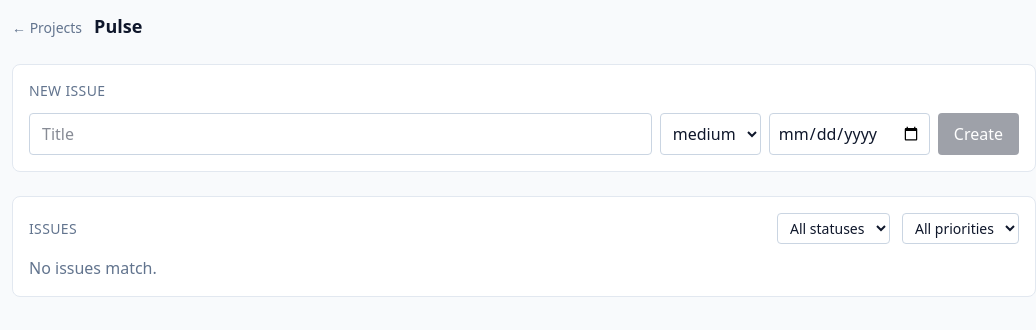
Test: creates an issue and shows it in the list
The image size is (1036, 330).
Expected: the text "No issues match." is shown, [29,257,157,279]
Type "Brand new" into the field named "Issue title" at (340, 134), box [29,113,652,155]
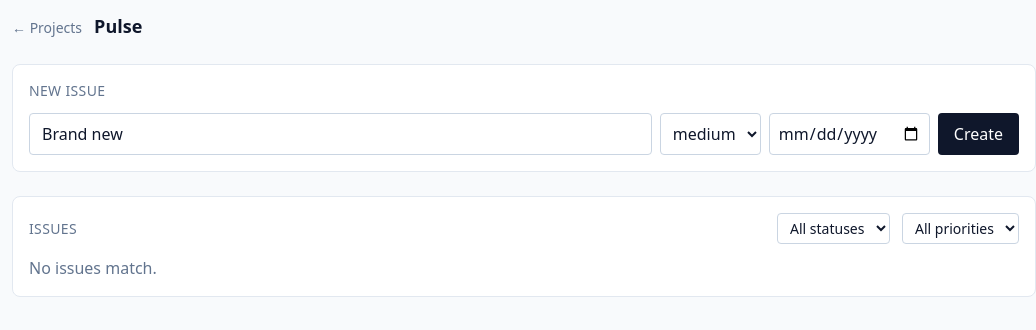
Select "urgent" in the dropdown named "Issue priority" at (710, 134), box [660,113,761,155]
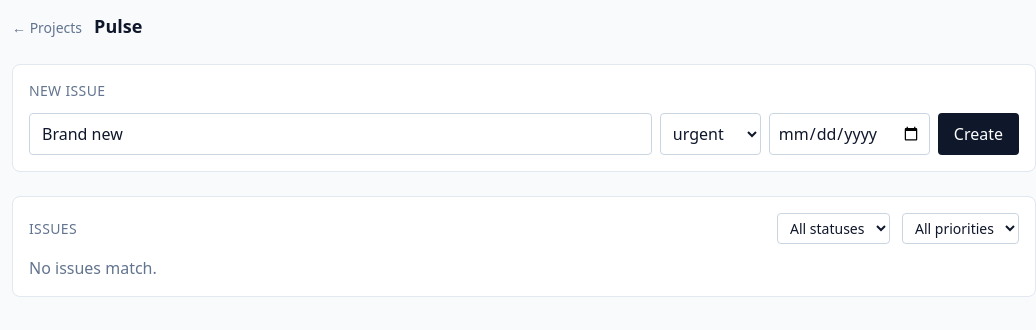
Click the button "Create" at (978, 134), box [938,113,1019,155]
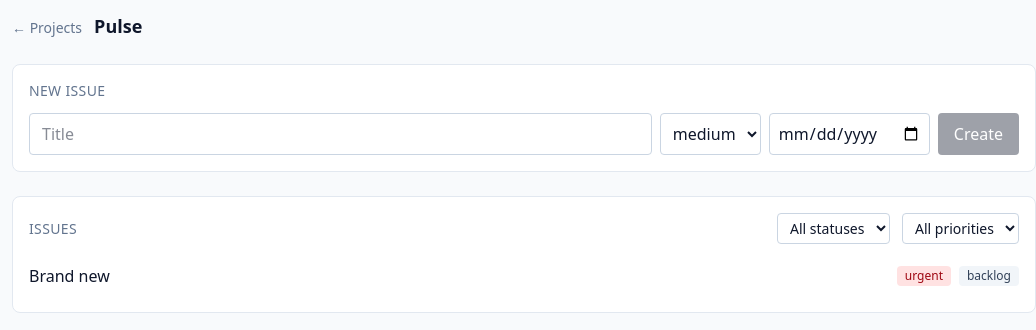
Now the text "urgent" is shown, box [897,266,951,286]
Now the field named "Issue title" is empty, box [29,113,652,155]
